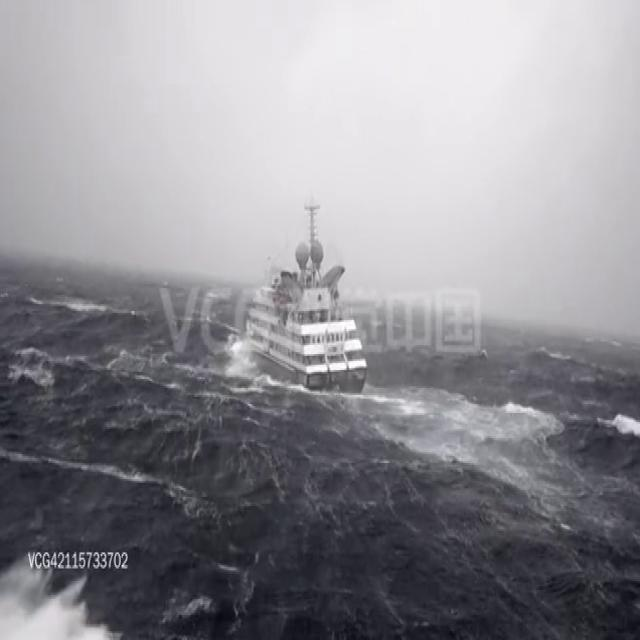passenger ship: (246, 194, 363, 386)
